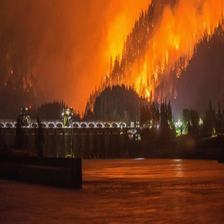fire: (15, 3, 205, 115)
